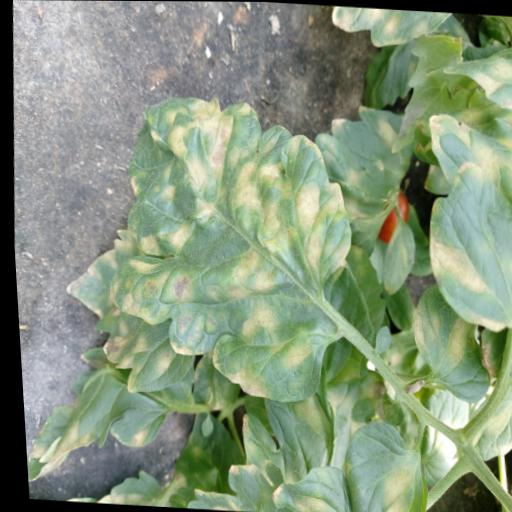Leaf Mold: (93, 91, 364, 406), (54, 226, 198, 398), (16, 343, 168, 491), (415, 107, 512, 331), (306, 101, 418, 257), (405, 280, 492, 404), (334, 419, 427, 512), (439, 41, 512, 114), (263, 460, 347, 512), (466, 384, 512, 463), (376, 219, 415, 297)
